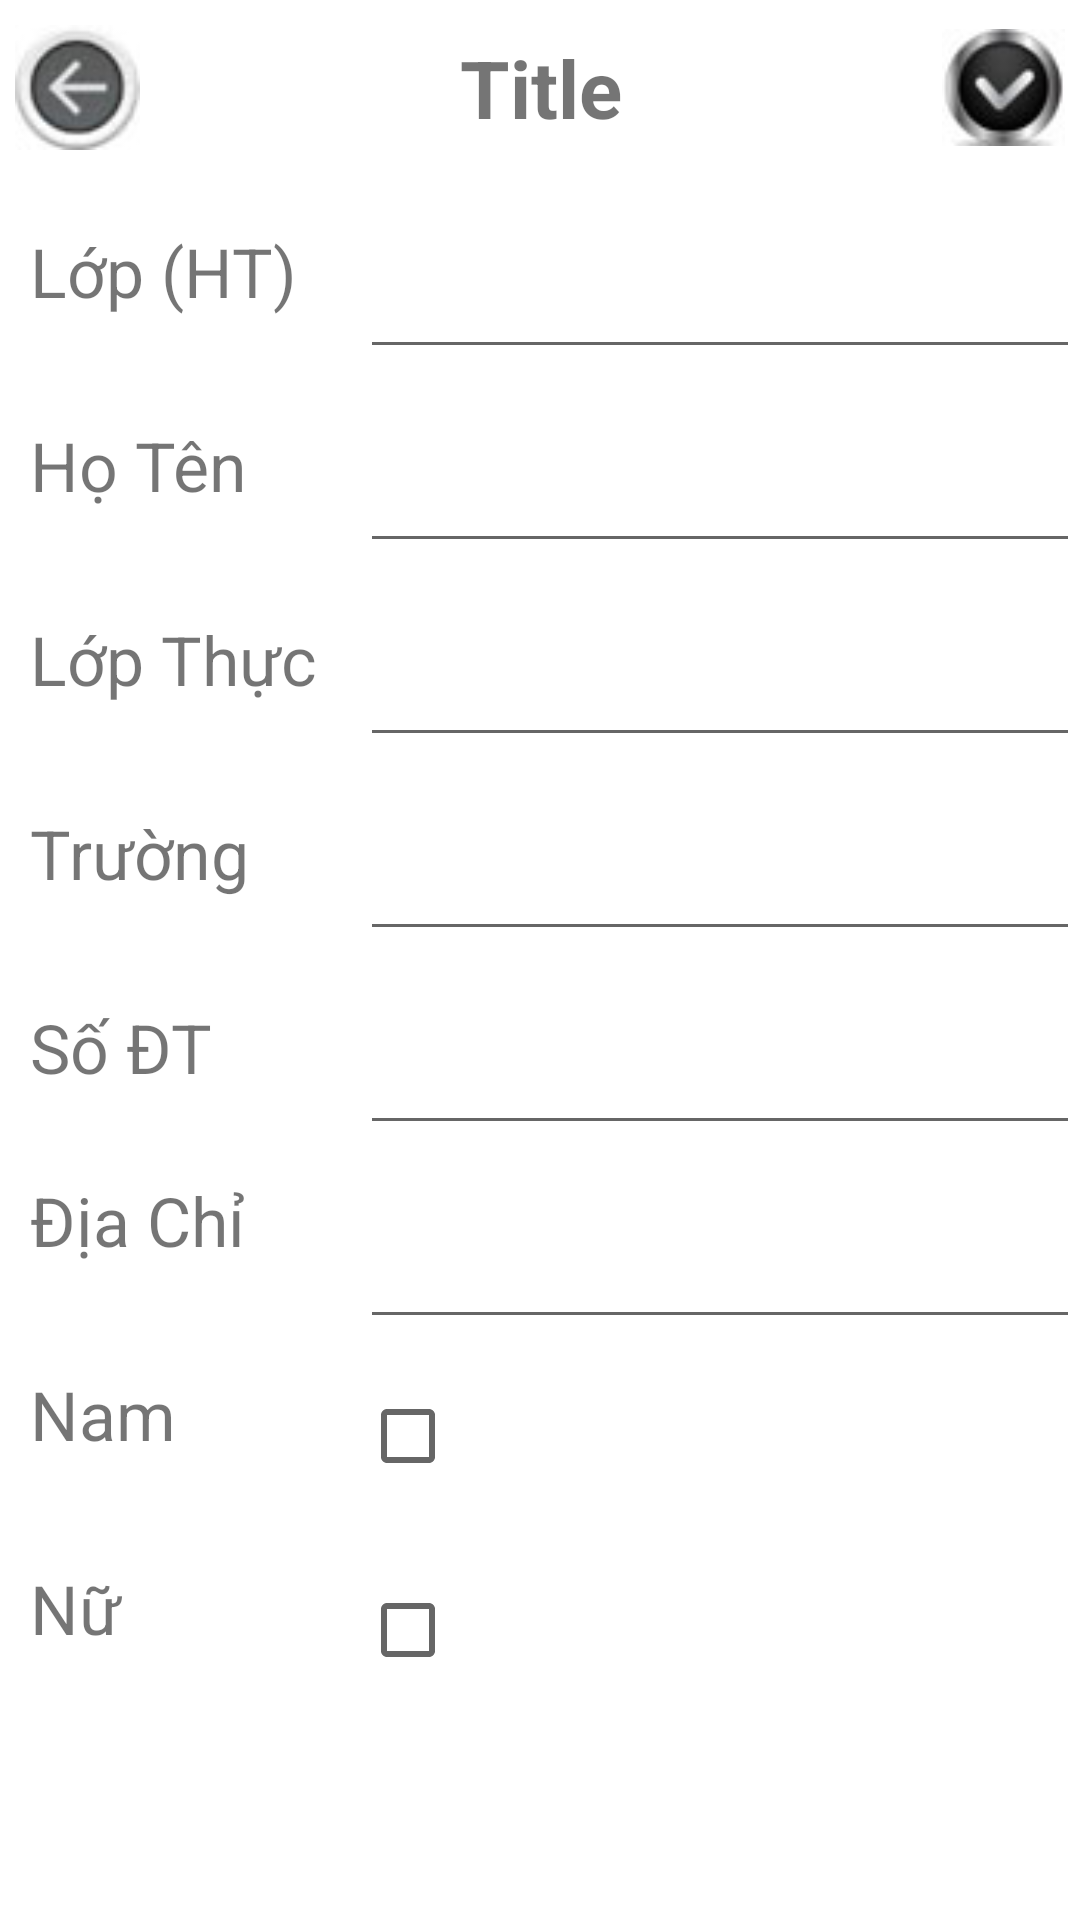

Where icons sit on this 1080 x 1920 app screen, as (x1, y1, x2, y2):
back: (15, 32, 140, 150)
save: (945, 29, 1063, 146)
